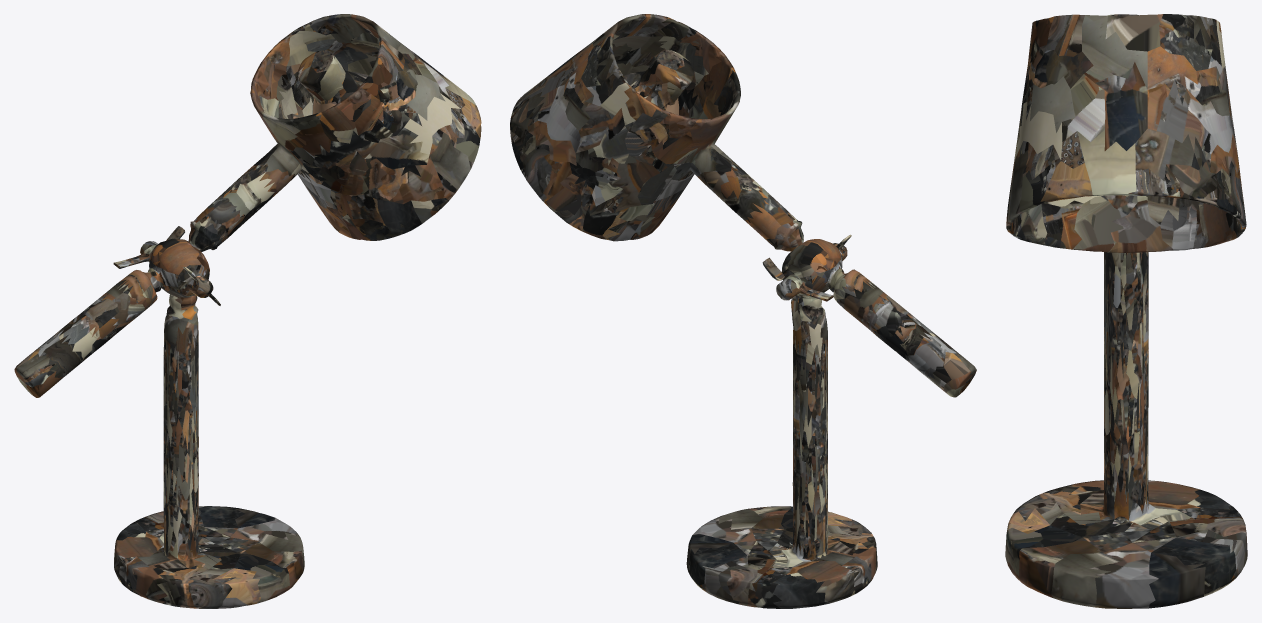
Rendered from лампа.fbx.
3 views of the same model, side by side, from view 1: azimuth 30°, elevation 25°; view 2: azimuth 150°, elevation 25°; view 3: azimuth 270°, elevation 25° (orthographic). The views are drawn at different scales.
Visible parts, largest first — view 1: temp; view 2: temp; view 3: temp.
Part boxes in pixels (bbox=[...]): temp: bbox=[14, 14, 481, 608]; temp: bbox=[510, 14, 976, 608]; temp: bbox=[1005, 14, 1247, 608].
Size of the model in its own units: 184 by 200 by 68.02.
